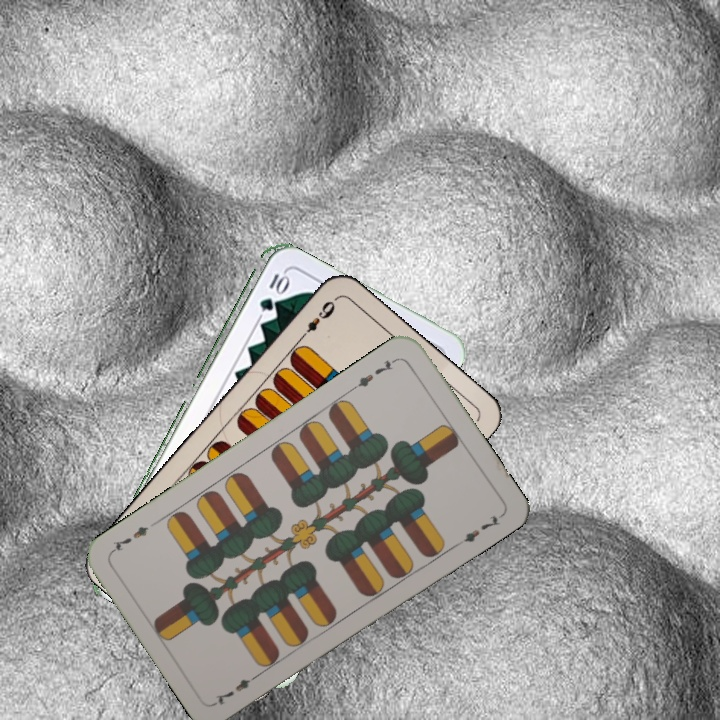E7: (348, 354, 401, 393), (211, 669, 263, 708)
E9: (295, 297, 338, 343)
G10: (255, 268, 289, 314)
